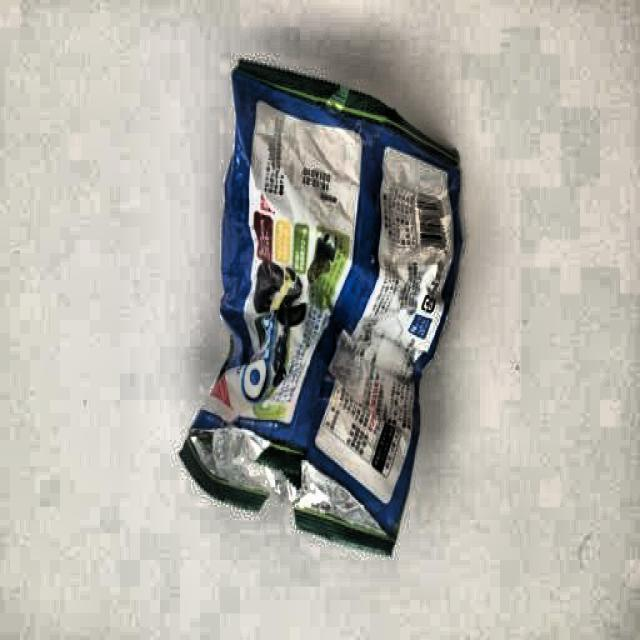plastic: (188, 56, 452, 554)
